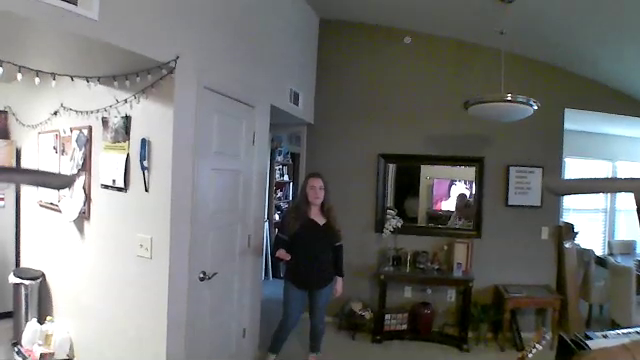land: (270, 245, 295, 266)
